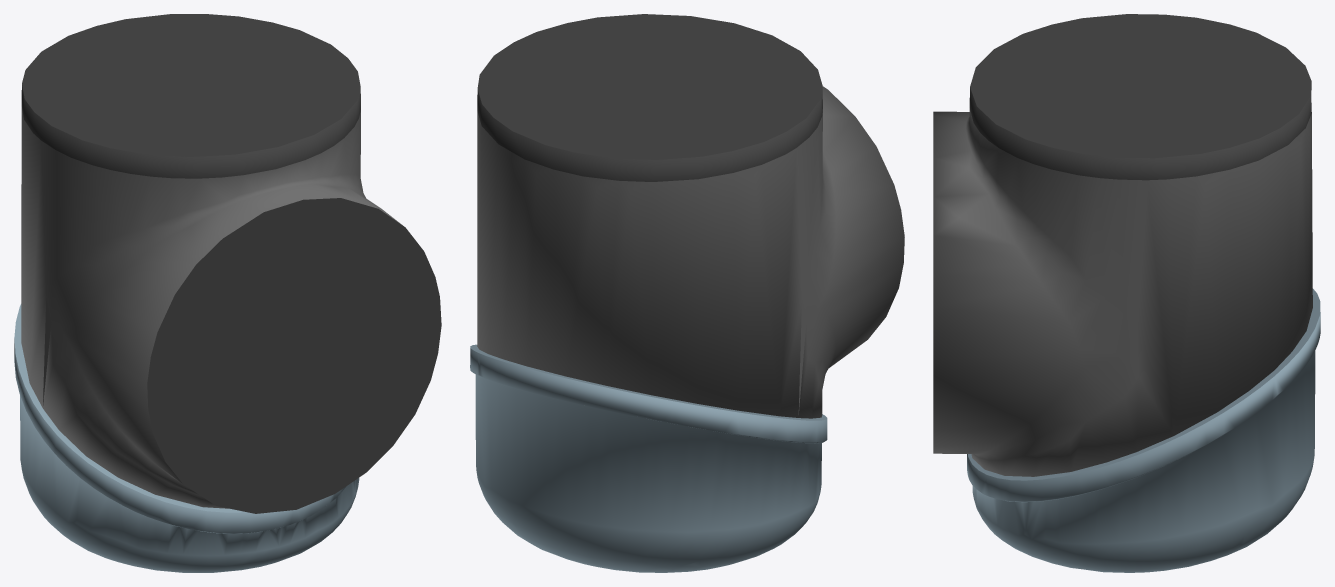
File: Wrist1.dae
3 renders of one model, left to right at view 1: azimuth 30°, elevation 25°; view 2: azimuth 150°, elevation 25°; view 3: azimuth 270°, elevation 25°, orthographic.
Visible parts, largest first — view 1: Actor0, Actor1; view 2: Actor0, Actor1; view 3: Actor0, Actor1.
Boxes of the visible parts, left/top/right/bottom form: Actor0: left=21, top=14, right=441, bottom=513; Actor1: left=14, top=304, right=359, bottom=572; Actor0: left=477, top=14, right=904, bottom=418; Actor1: left=470, top=344, right=827, bottom=572; Actor0: left=933, top=14, right=1312, bottom=476; Actor1: left=967, top=288, right=1320, bottom=572.
Size of the model in its own units: 0.0775 by 0.0848 by 0.1047.
